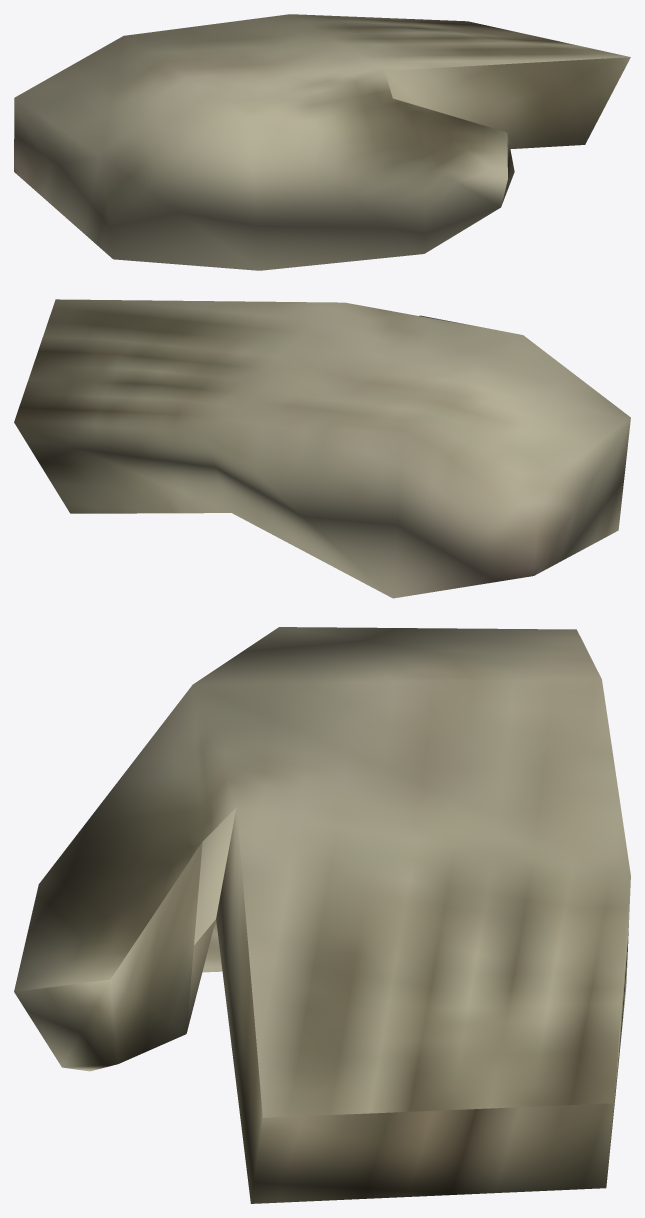
File: WorldItem_Arm_Hand_Ground.fbx
3 renders of one model, top to bottom at view 1: azimuth 30°, elevation 25°; view 2: azimuth 150°, elevation 25°; view 3: azimuth 270°, elevation 25°, orthographic. The views are drawn at different scales.
Visible parts, largest first — view 1: Body; view 2: Body; view 3: Body.
Part boxes in pixels (box(x1,y1,x2,y2)): Body: box(14, 14, 630, 270); Body: box(14, 299, 630, 598); Body: box(14, 627, 630, 1203).
Bounding box in the file's own units: 0.1351 × 0.0392 × 0.0783.
